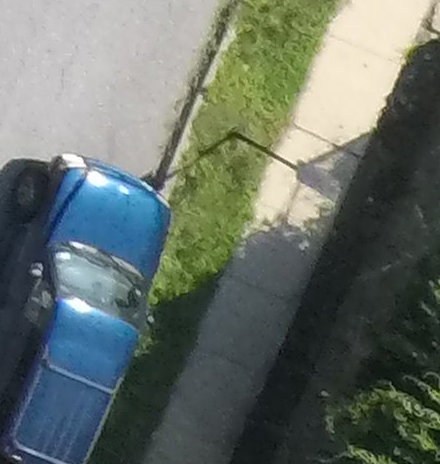car: (1, 131, 214, 462)
